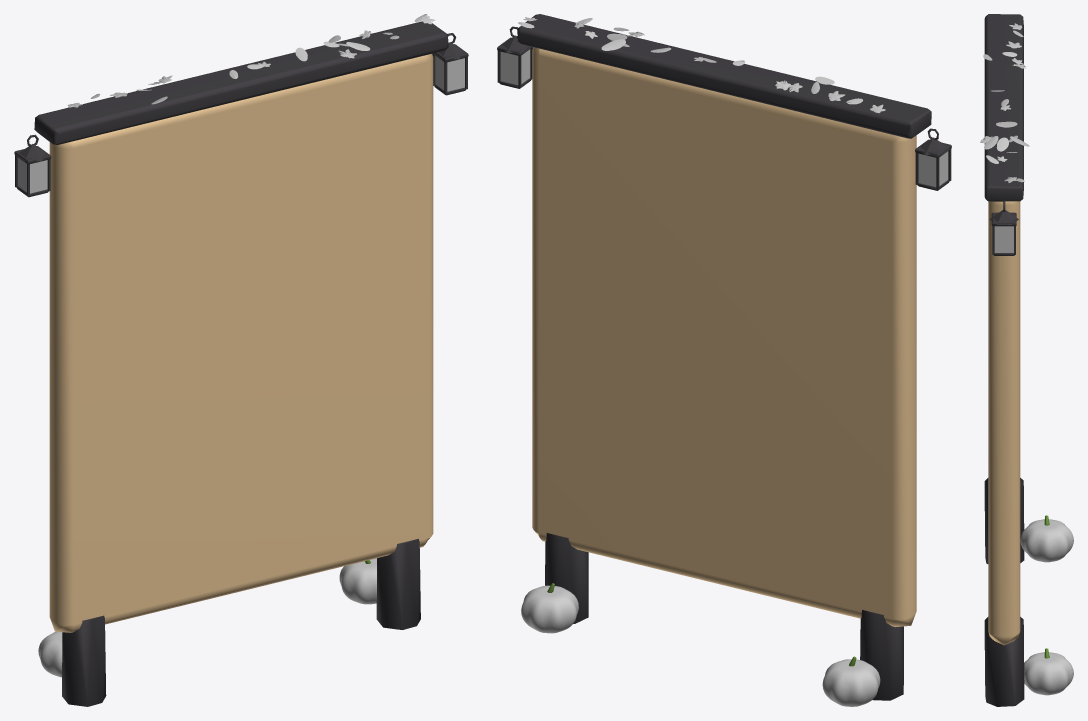
The model's file is HollowBoard.obj.
3 renders of one model, left to right at view 1: azimuth 30°, elevation 25°; view 2: azimuth 150°, elevation 25°; view 3: azimuth 270°, elevation 25°, orthographic. The views are drawn at different scales.
Visible parts, largest first — view 1: Wood, Iron, Leaf, Lglass, Leaf3; view 2: Wood, Iron, Leaf, Lglass, Leaf3; view 3: Wood, Iron, Leaf, Leaf3, Lglass, Leaf2.
Part boxes in pixels (box(x1,y1,x2,y2)): Wood: box(49, 54, 433, 632); Iron: box(14, 21, 468, 706); Leaf: box(38, 35, 399, 677); Lglass: box(18, 56, 464, 193); Leaf3: box(67, 14, 435, 107); Wood: box(532, 47, 916, 627); Iron: box(497, 14, 951, 700); Leaf: box(521, 18, 880, 706); Lglass: box(500, 49, 948, 186); Leaf3: box(518, 17, 885, 113); Wood: box(988, 201, 1020, 645); Iron: box(984, 14, 1024, 706); Leaf: box(986, 30, 1073, 695); Leaf3: box(983, 23, 1026, 182); Lglass: box(994, 226, 1013, 252); Leaf2: box(990, 63, 1029, 146).
Bounding box in the file's own units: 12.93 × 16.61 × 2.63.
